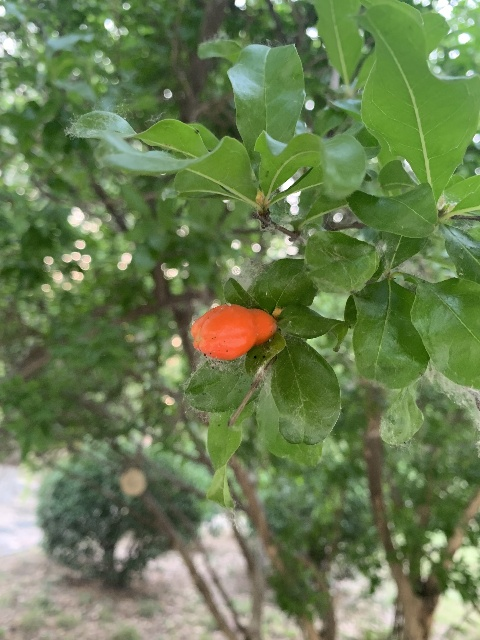bud: (191, 304, 276, 360)
